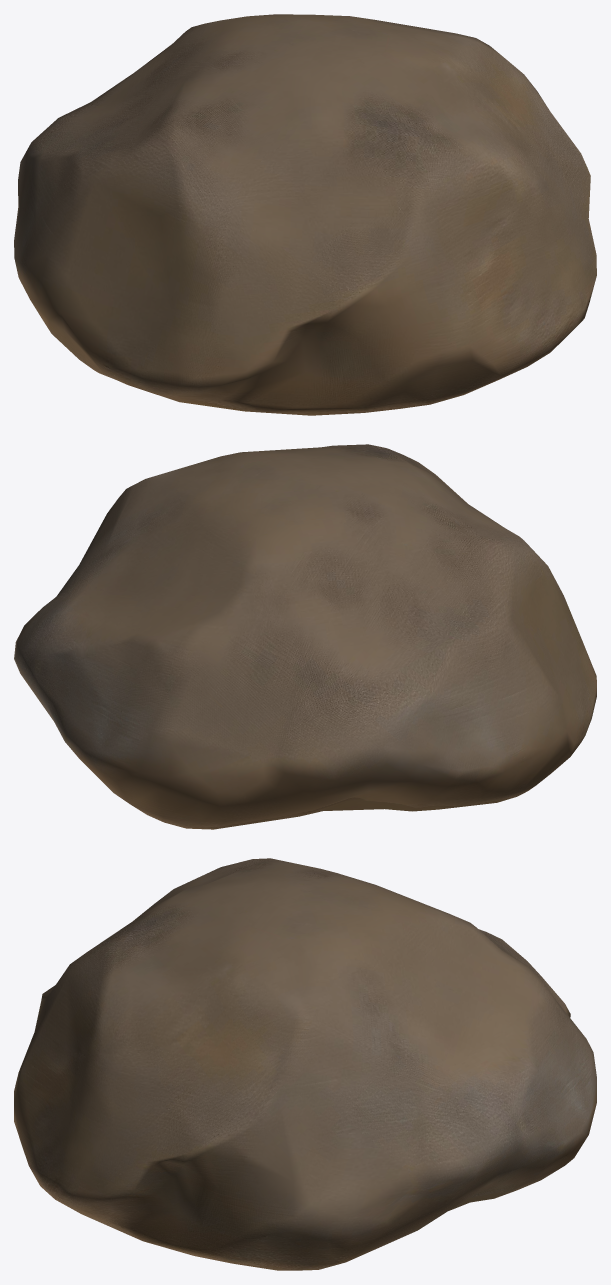
File: stone_02.glb
3 views of the same model, one above another, from view 1: azimuth 30°, elevation 25°; view 2: azimuth 150°, elevation 25°; view 3: azimuth 270°, elevation 25° (orthographic). The views are drawn at different scales.
Visible parts, largest first — view 1: tripo_node_e6d8e1e8-b910-4652-9201-8641a6f98352; view 2: tripo_node_e6d8e1e8-b910-4652-9201-8641a6f98352; view 3: tripo_node_e6d8e1e8-b910-4652-9201-8641a6f98352.
Part boxes in pixels (x1=…): tripo_node_e6d8e1e8-b910-4652-9201-8641a6f98352: x1=14, y1=14, x2=596, y2=415; tripo_node_e6d8e1e8-b910-4652-9201-8641a6f98352: x1=14, y1=444, x2=596, y2=829; tripo_node_e6d8e1e8-b910-4652-9201-8641a6f98352: x1=14, y1=858, x2=596, y2=1270.
Size of the model in its own units: 0.9359 by 0.5 by 0.9359.
1 material, 1 textured.
